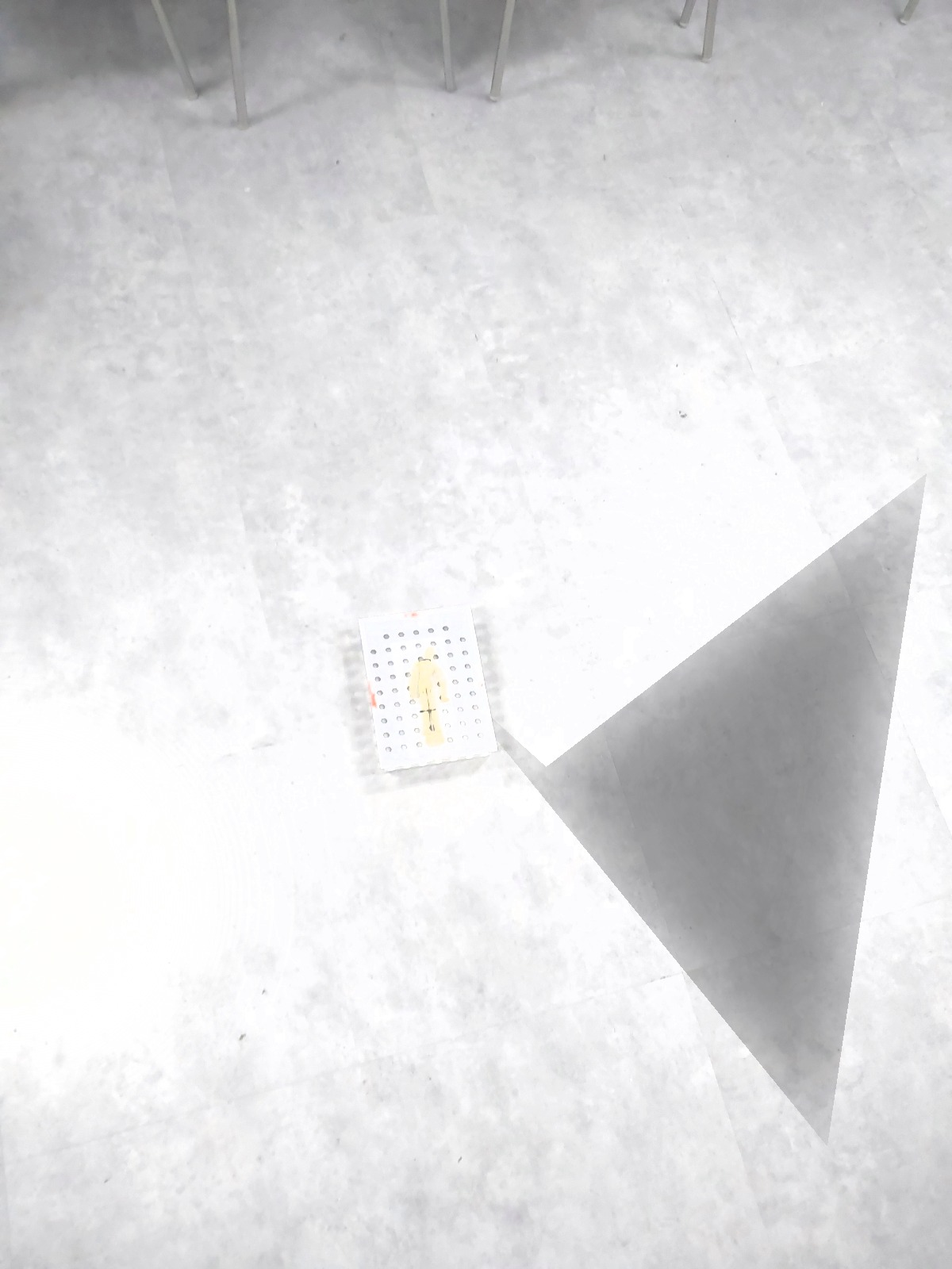basket: (355, 601, 501, 776)
mannequin: (405, 642, 453, 753)
